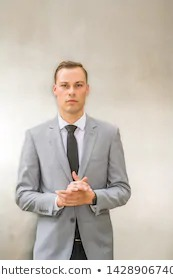F_M_suit jacket: (13, 109, 135, 258)
